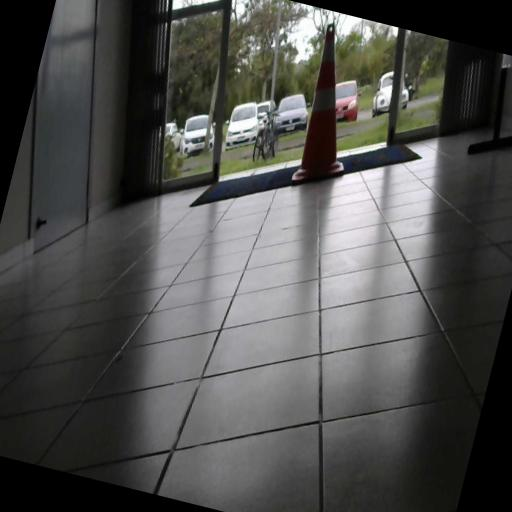cone: (288, 18, 378, 190)
